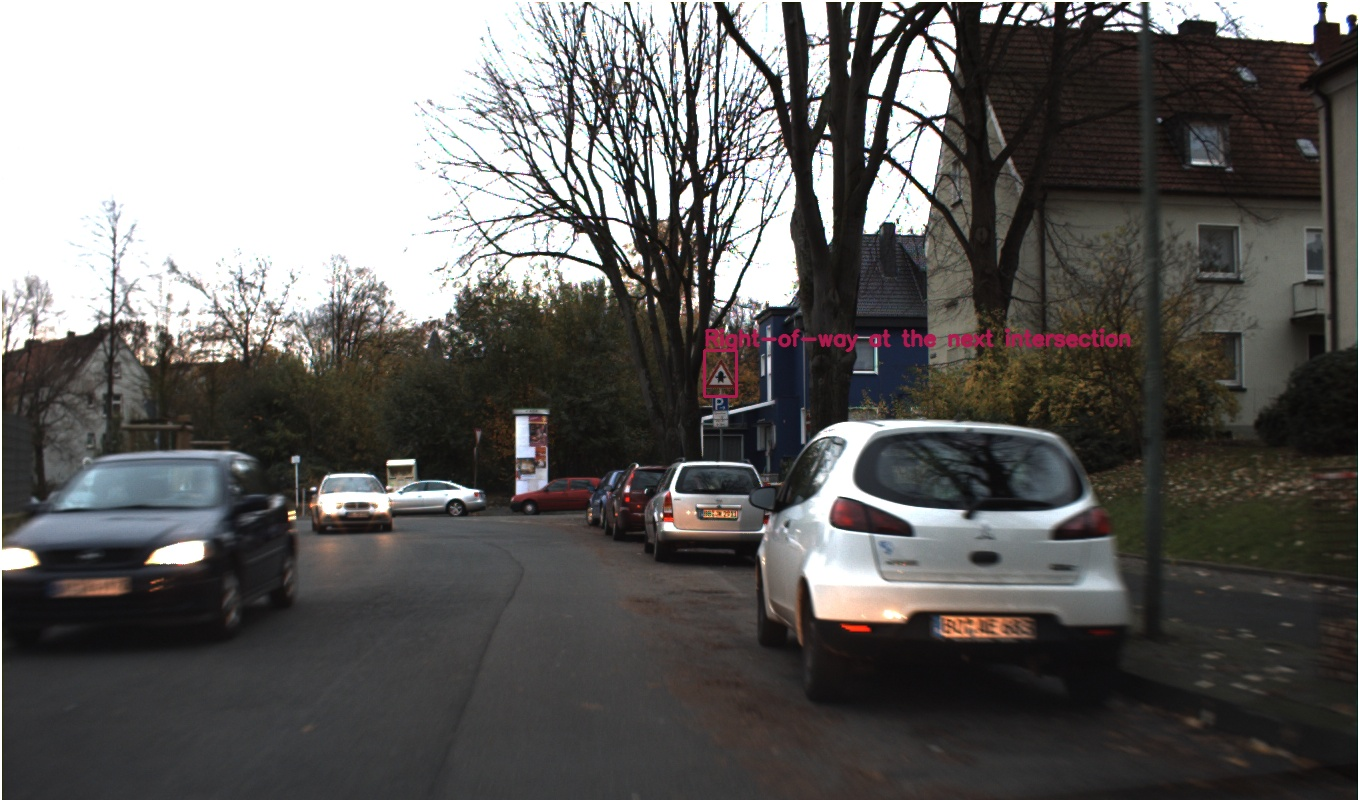Right-of-way at the next intersection: (667, 410, 705, 445)
